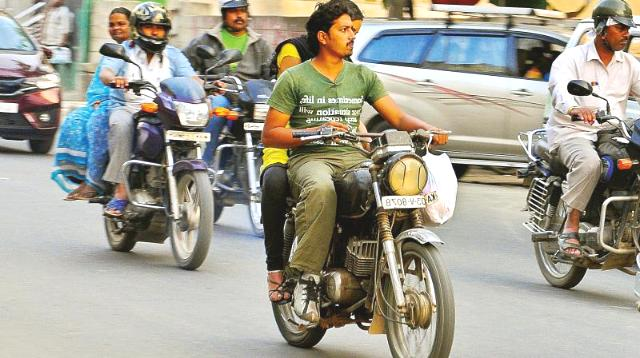licensePlate: (381, 193, 435, 210), (166, 130, 217, 143)
motorcycle: (260, 0, 456, 358), (50, 0, 210, 270), (520, 0, 640, 288)
withHelmet: (590, 0, 640, 55), (130, 1, 172, 52), (219, 0, 249, 31)
withoutHelmet: (309, 8, 356, 63), (107, 5, 132, 42)
